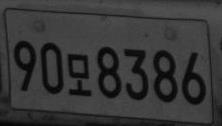0: (39, 41, 64, 95)
3: (123, 47, 149, 101)
6: (180, 51, 207, 106)
8: (152, 49, 179, 103), (95, 46, 122, 99)
9: (12, 39, 37, 91)
모: (66, 53, 93, 96)
